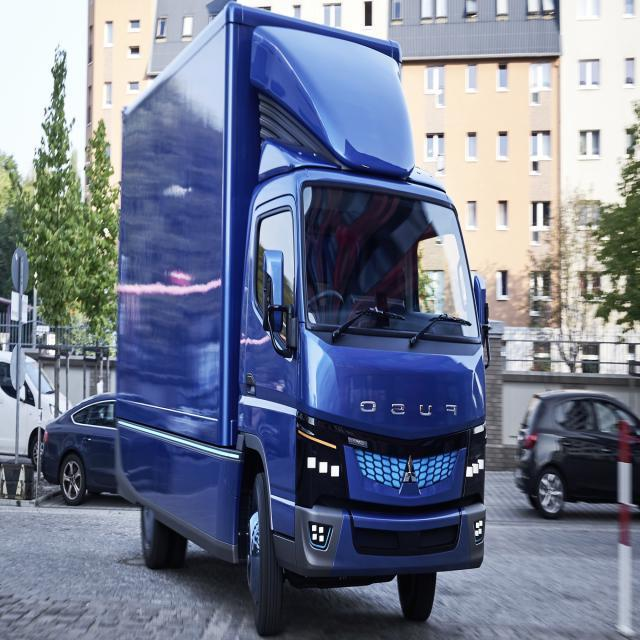truck: (116, 2, 490, 610)
